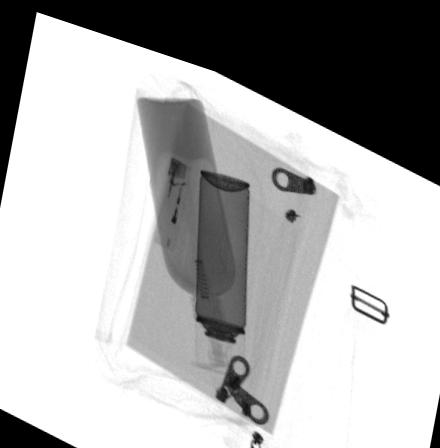Lighter: (147, 144, 196, 241)
Sprayer: (193, 155, 249, 361)
